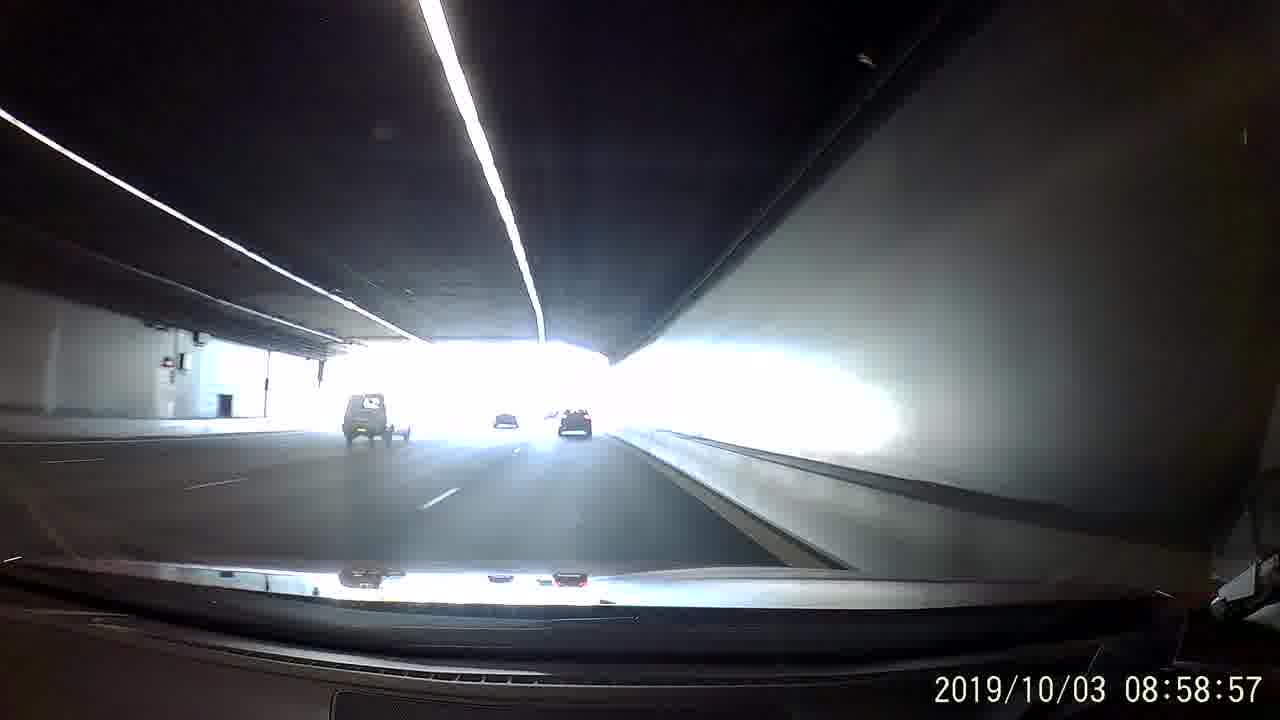car: (553, 402, 595, 441), (492, 405, 521, 428)
